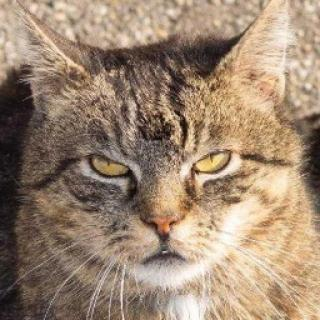cat: (20, 20, 297, 287)
nose: (137, 192, 184, 243)
